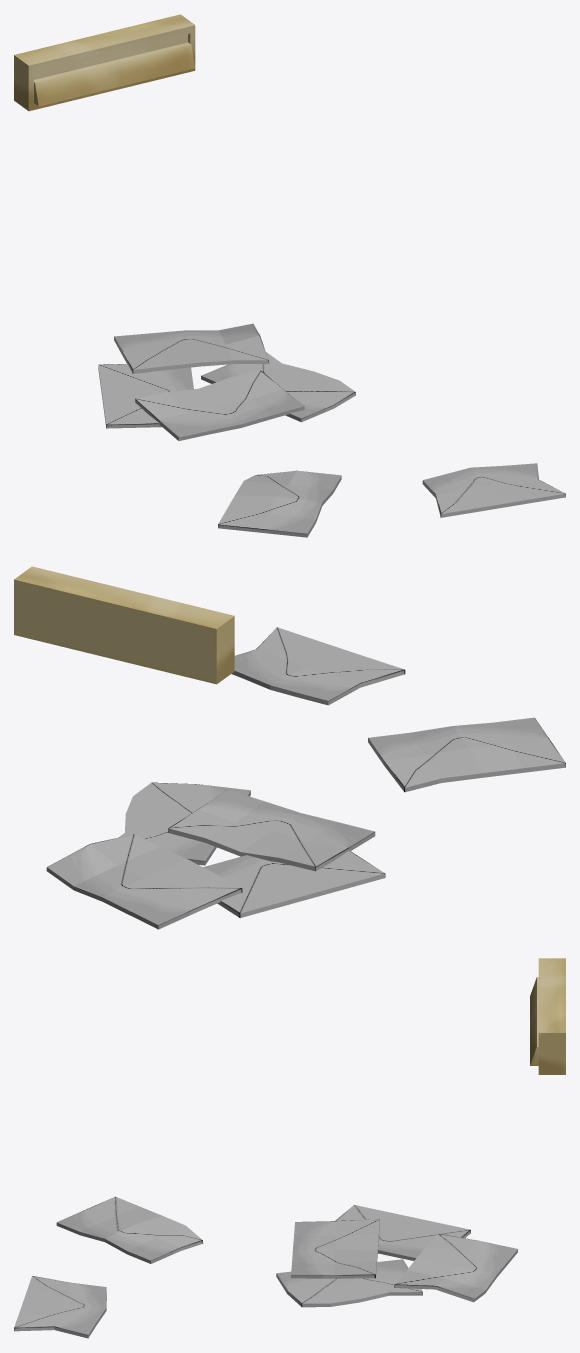
File: Mail.fbx
3 views of the same model, one above another, from view 1: azimuth 30°, elevation 25°; view 2: azimuth 150°, elevation 25°; view 3: azimuth 270°, elevation 25° (orthographic). The views are drawn at different scales.
Parts seen in each view (by area): view 1: Mailbox, Mail.002, Mail.004, Mail.003, Mail.005, Mail, Mail.001; view 2: Mailbox, Mail.003, Mail.004, Mail.002, Mail.005, Mail, Mail.001; view 3: Mail.004, Mail.003, Mail.002, Mail.005, Mailbox, Mail.001, Mail.
Boxes of the visible parts, x1,y1,x2,y2 form: Mailbox: (14,14,195,111); Mail.002: (135,370,304,440); Mail.004: (218,470,341,537); Mail.003: (114,323,269,373); Mail.005: (422,463,565,517); Mail: (98,364,193,428); Mail.001: (201,352,355,422); Mailbox: (14,566,234,684); Mail.003: (46,834,242,929); Mail.004: (368,717,565,792); Mail.002: (168,789,375,871); Mail.005: (231,627,405,705); Mail: (203,850,385,917); Mail.001: (118,782,250,865); Mail.004: (56,1196,203,1263); Mail.003: (394,1233,518,1302); Mail.002: (291,1219,379,1278); Mail.005: (14,1276,106,1338); Mailbox: (530,958,565,1074); Mail.001: (276,1259,422,1307); Mail: (335,1205,470,1260).
Bounding box in the file's own units: 365 × 332 × 625.
